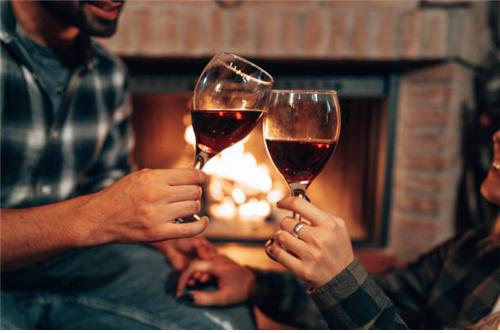alcohol: (185, 51, 273, 227), (261, 87, 338, 227)
